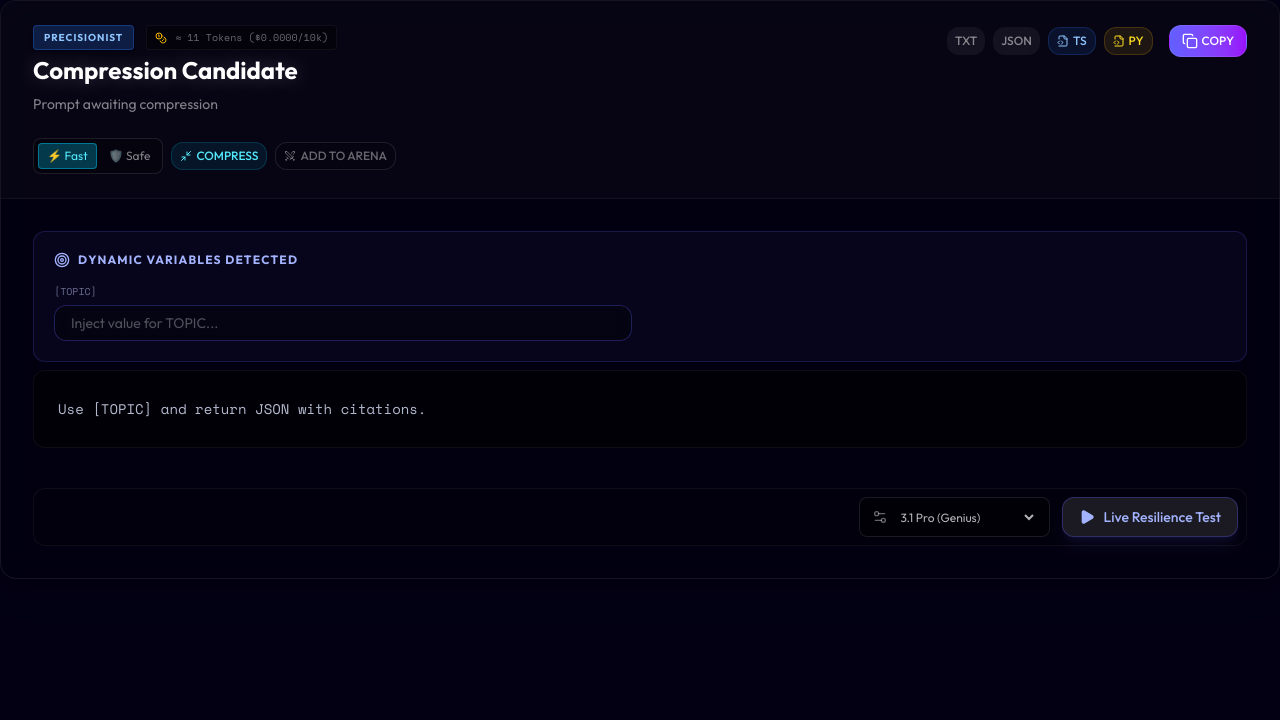
VariationCard handleCompress › rejects safe-mode compressions that drop required variables
The width and height of the screenshot is (1280, 720).
Click the button "🛡️ Safe" at (130, 156), box [101,144,158,168]
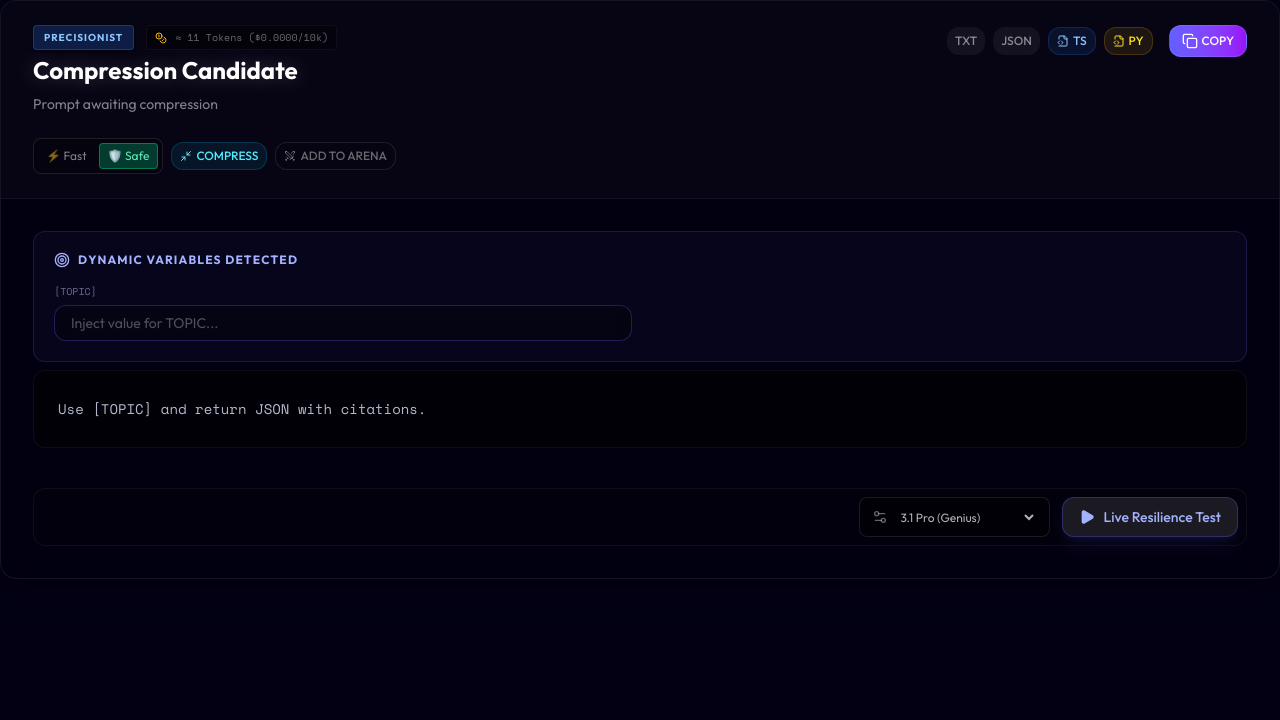
Click the button "COMPRESS" at (220, 156), box [172,142,268,170]
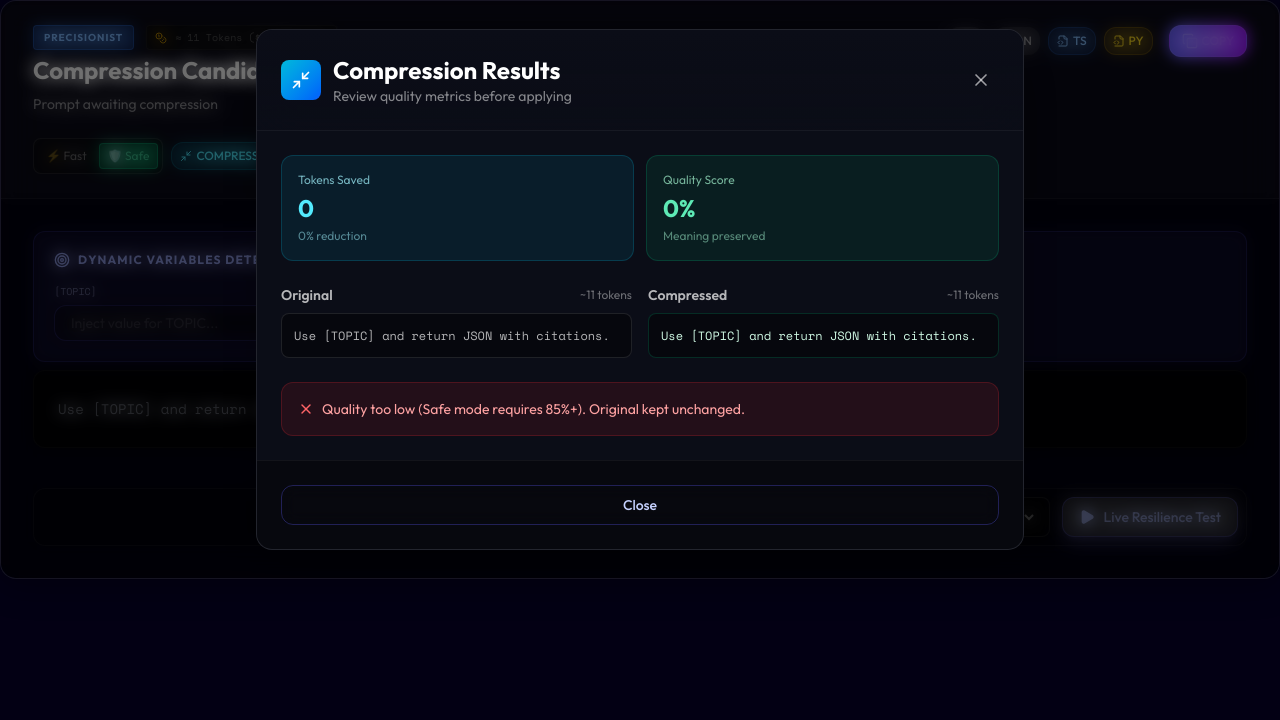
Result: the text "Quality too low" is shown at [322,400,745,418]
